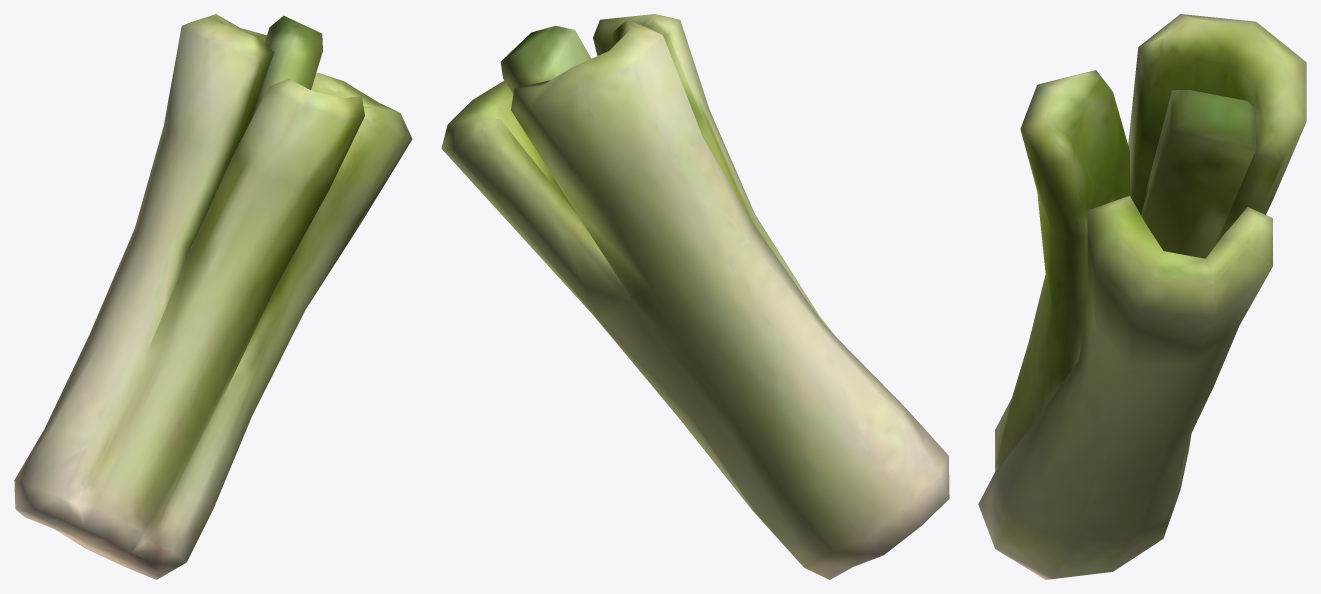
Rendered from leek.glb.
3 renders of one model, left to right at view 1: azimuth 30°, elevation 25°; view 2: azimuth 150°, elevation 25°; view 3: azimuth 270°, elevation 25°, orthographic. The views are drawn at different scales.
Parts seen in each view (by area): view 1: Leek; view 2: Leek; view 3: Leek.
Boxes of the visible parts, box(x1,y1,x2,y2) form: Leek: box(14, 14, 412, 579); Leek: box(441, 14, 949, 579); Leek: box(978, 14, 1306, 579).
Size of the model in its own units: 1.65 by 1.88 by 0.8712.
1 material, 1 textured.
